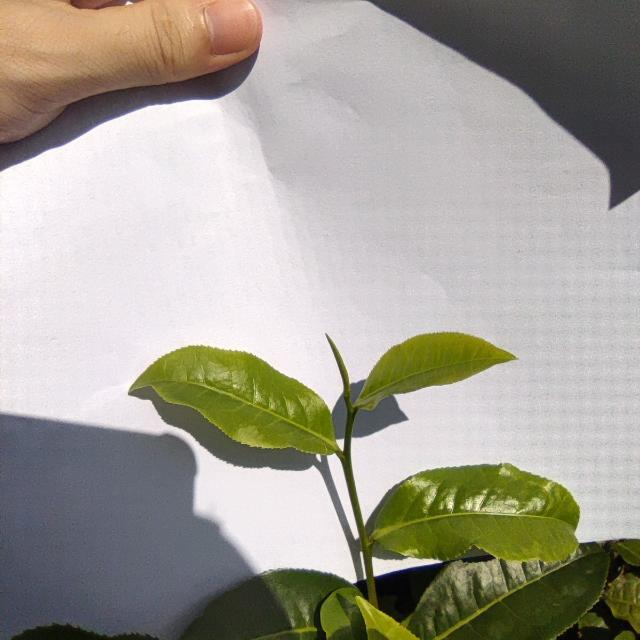Stem: (342, 453, 351, 465)
